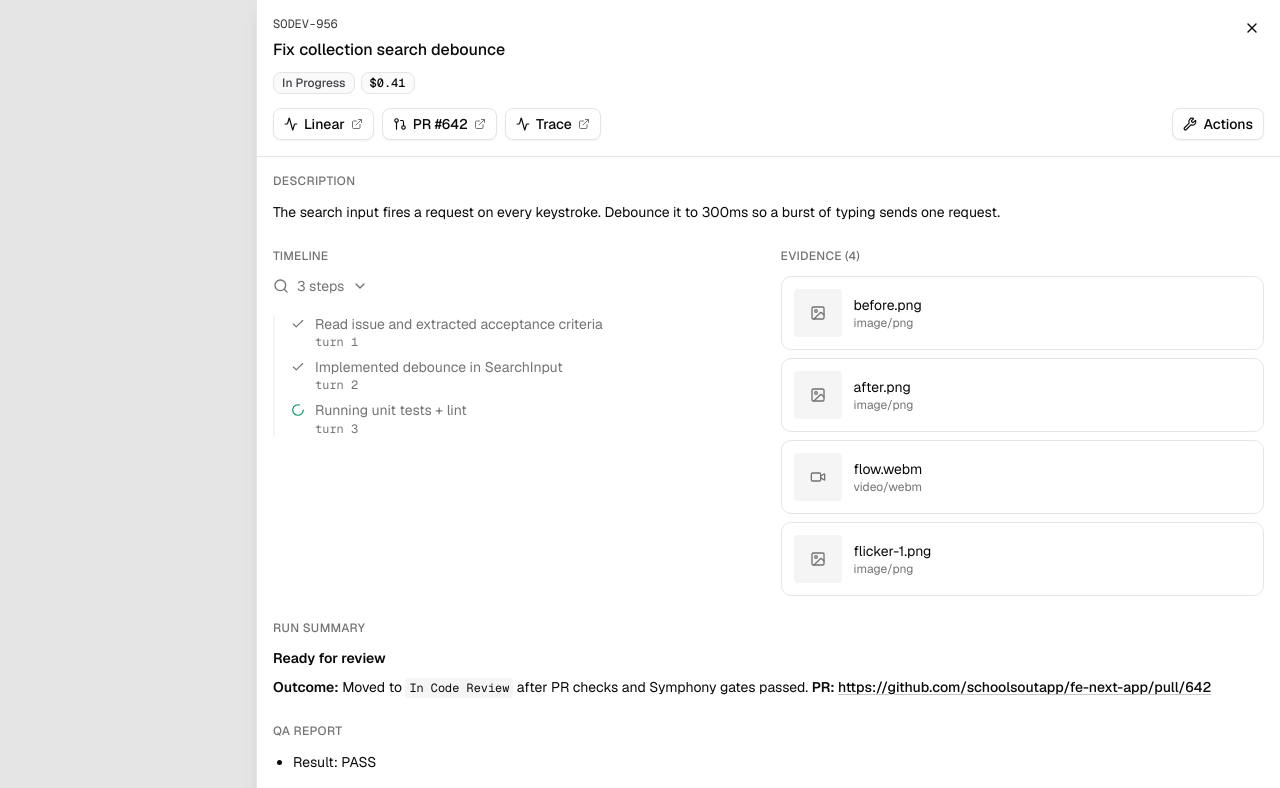
Scenario: TicketDetail › opens status in a concise operational modal
Expected: the heading "Timeline" is shown, [273, 248, 328, 264]
Click the button "Actions".
click(1218, 124)  # box [1172, 108, 1264, 140]
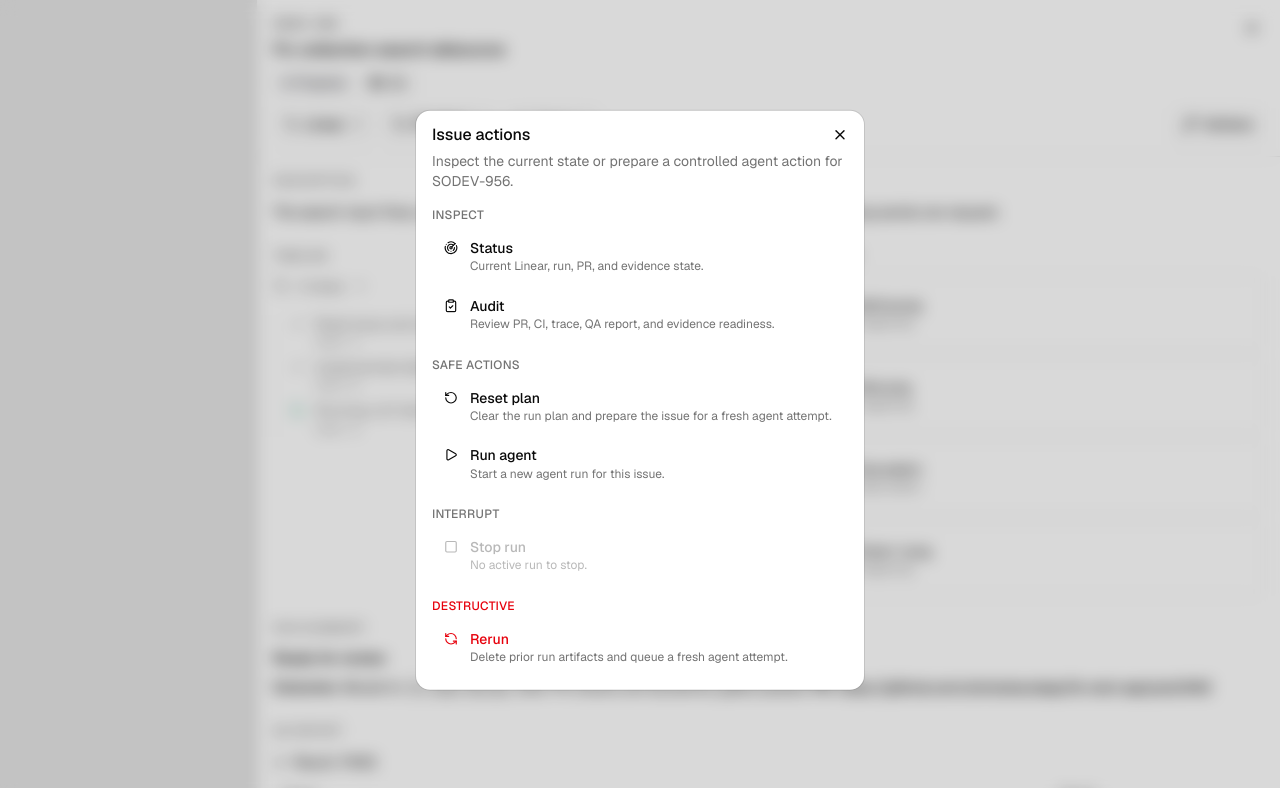
Click the button "Status Current Linear, run, PR, and evidence state.".
click(640, 257)  # box [432, 231, 848, 283]
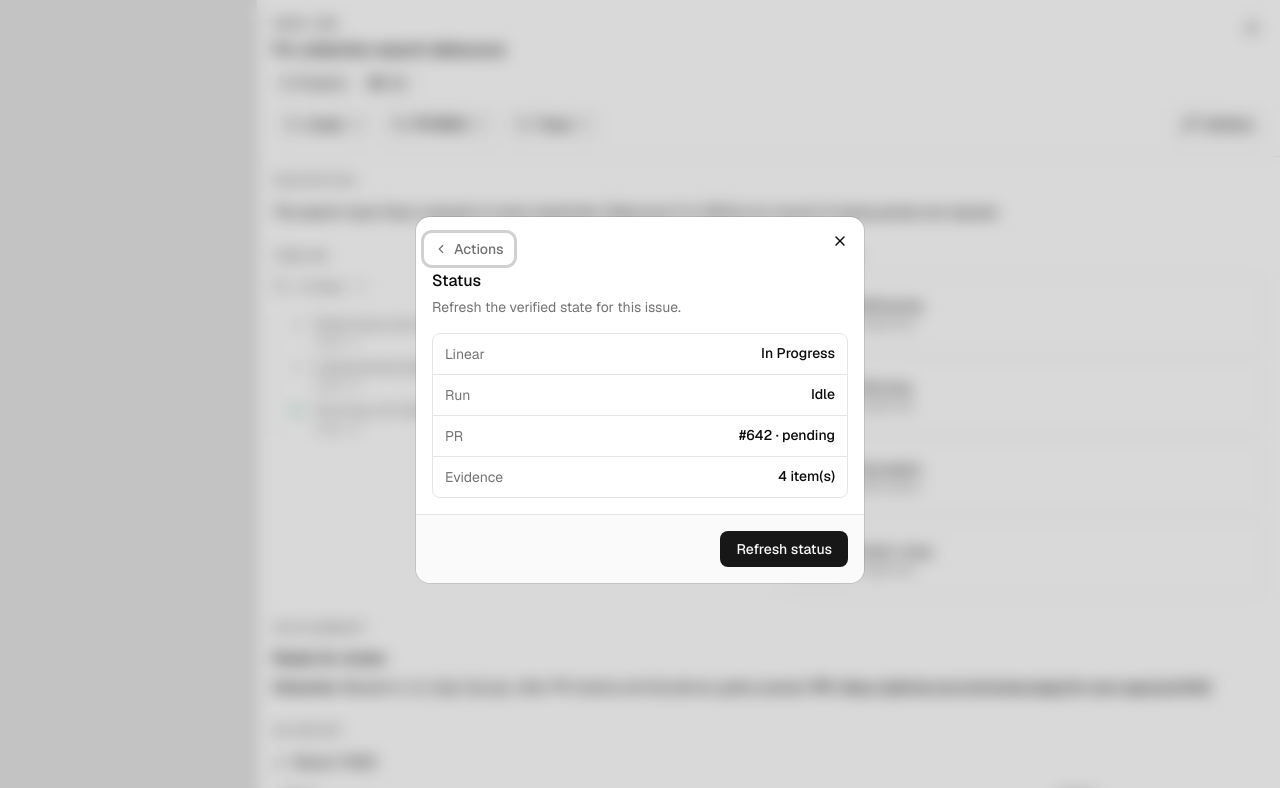
Now the heading "Status" is shown, box [432, 270, 481, 291]
Now the text "Refresh the verified state for this issue." is shown, box [432, 298, 681, 316]
Now the button "Refresh status" is enabled, box [720, 531, 848, 567]
